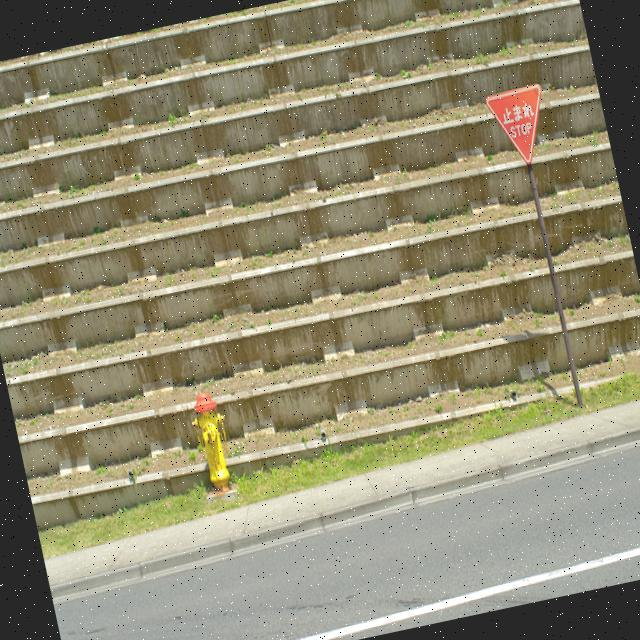fire_hydrant: (187, 386, 240, 494)
